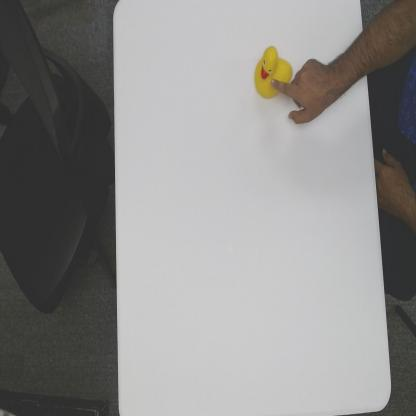Arm: (325, 27, 367, 106)
Duck: (253, 41, 293, 101)
Hand: (270, 56, 326, 127)
